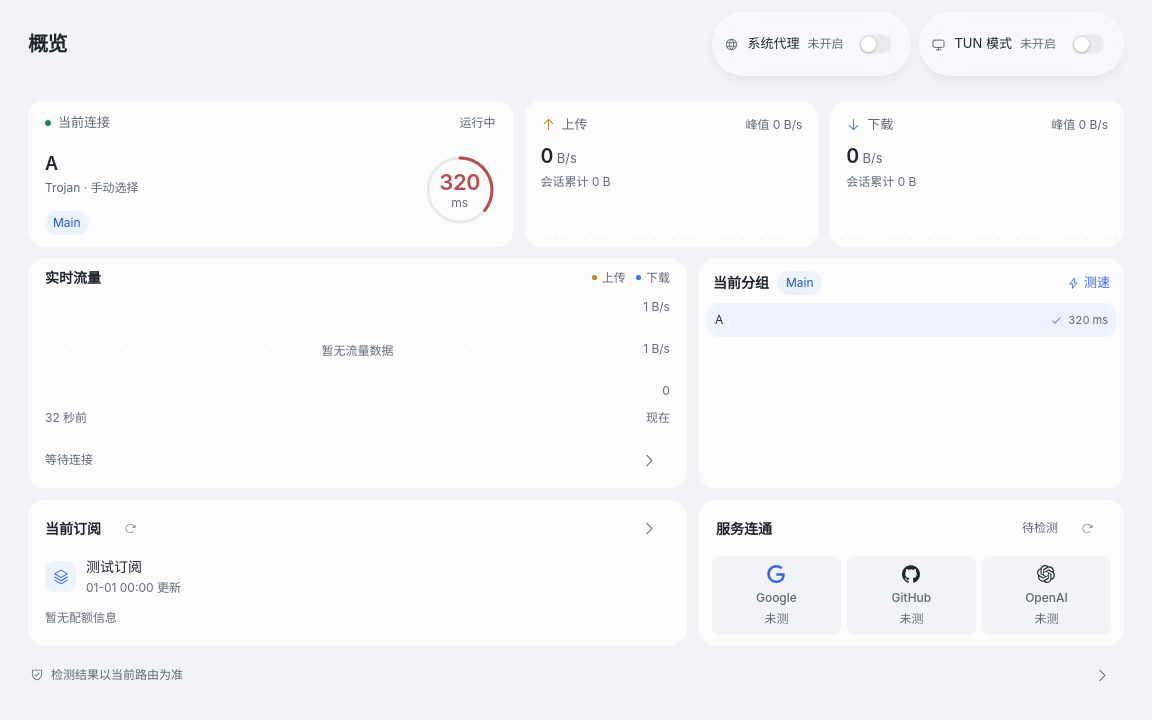
Test: 其他分组不影响主卡实际 Main 连接的测速目标、读数和颜色
Expected: the text with class "ov-group-tag" reads "Main", [786,275,814,290]
Expected: the text with class "ov-hero-route" reads "Main", [53,215,81,230]
Step 1. Click the button with class "ov-latency" → click(460, 190), box [424,154,496,226]
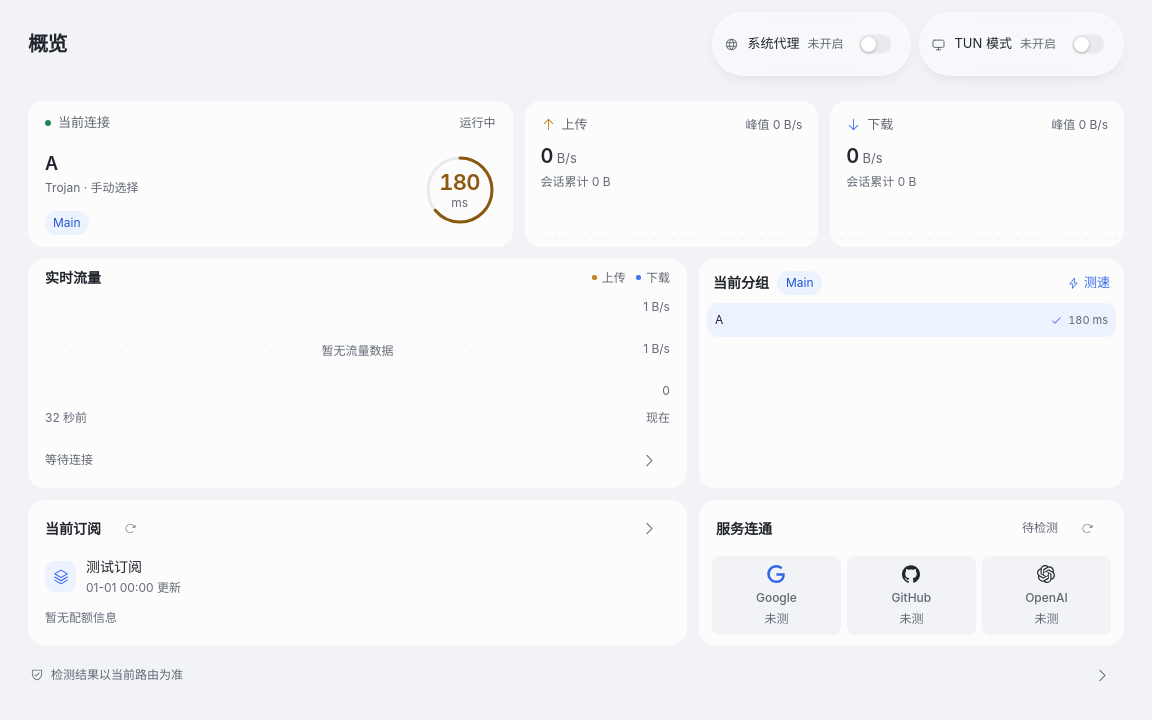
Now the button with class "ov-latency" reads "180 ms", box [424,154,496,226]
Now the element with class "group-card" shows "180 ms", box [707,303,1116,337]
